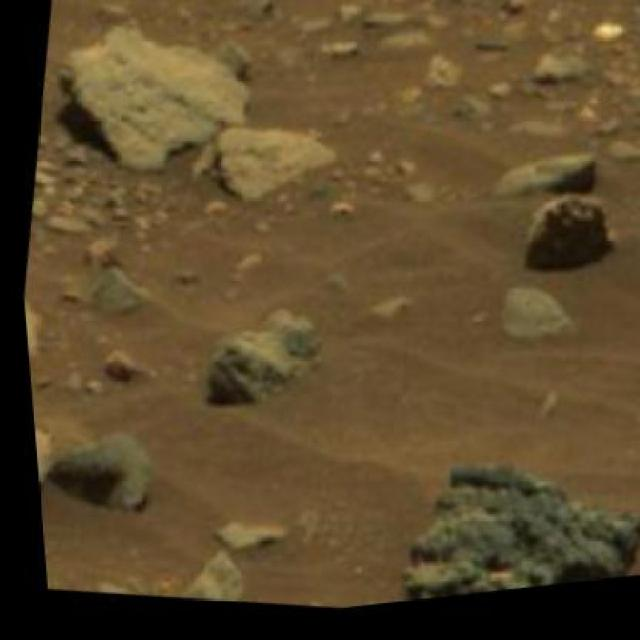rock: (374, 443, 638, 609), (45, 3, 261, 195), (513, 203, 619, 300), (16, 245, 56, 372)
